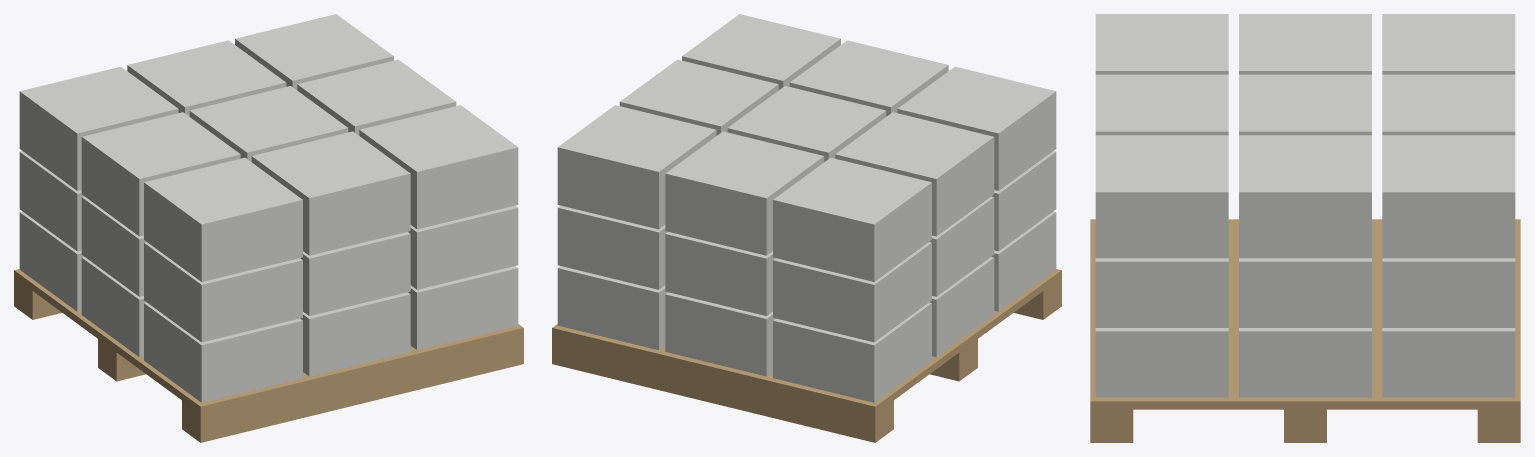
The model's file is pallet_mp_27.glb.
3 renders of one model, left to right at view 1: azimuth 30°, elevation 25°; view 2: azimuth 150°, elevation 25°; view 3: azimuth 270°, elevation 25°, orthographic. The views are drawn at different scales.
Visible parts, largest first — view 1: PalletMP; view 2: PalletMP; view 3: PalletMP.
Boxes of the visible parts, bbox=[...] form: PalletMP: bbox=[14, 14, 523, 442]; PalletMP: bbox=[552, 14, 1061, 442]; PalletMP: bbox=[1090, 14, 1520, 442].
Bounding box in the file's own units: 1 × 0.6386 × 1.
